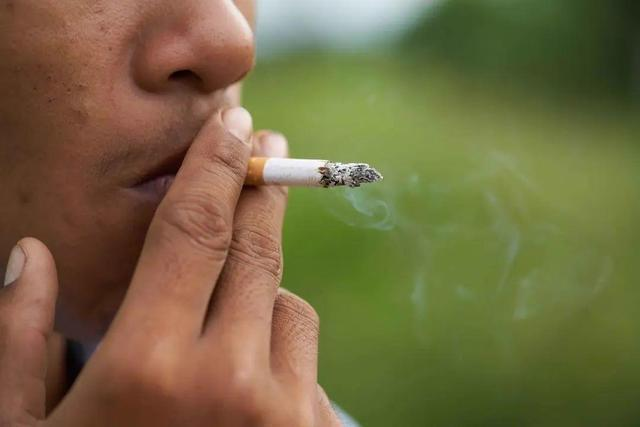smoke: (183, 152, 383, 188)
